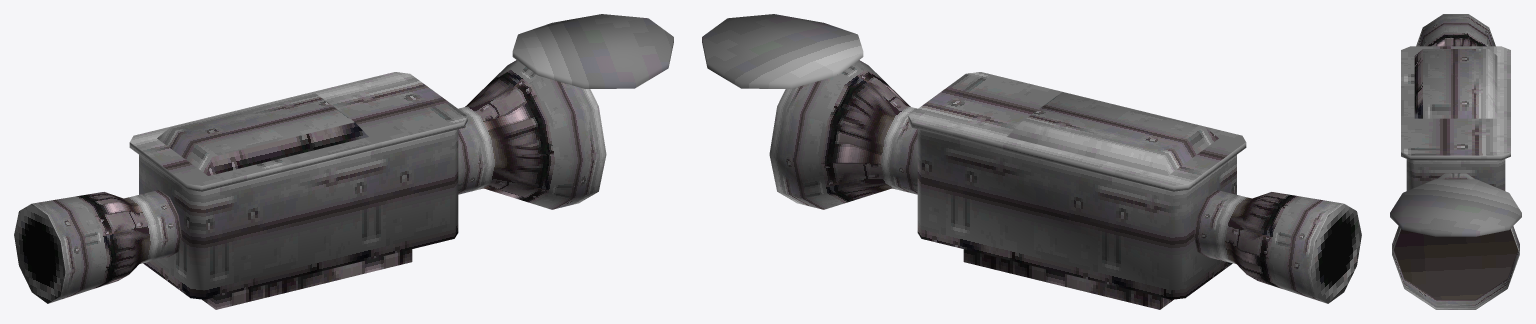
Rendered from barretm82A1__N003_thermal_scope_v0100.glb.
The picture shows the model from 3 angles, left to right: view 1: azimuth 30°, elevation 25°; view 2: azimuth 150°, elevation 25°; view 3: azimuth 270°, elevation 25°; orthographic projection. The views are drawn at different scales.
Visible parts, largest first — view 1: N003_thermal_scope_v0100; view 2: N003_thermal_scope_v0100; view 3: N003_thermal_scope_v0100.
Part boxes in pixels (bbox=[...]): N003_thermal_scope_v0100: bbox=[14, 14, 673, 309]; N003_thermal_scope_v0100: bbox=[702, 14, 1361, 309]; N003_thermal_scope_v0100: bbox=[1390, 14, 1521, 309].
Size of the model in its own units: 0.435 by 0.1063 by 0.1.
2 materials, 2 textured.
